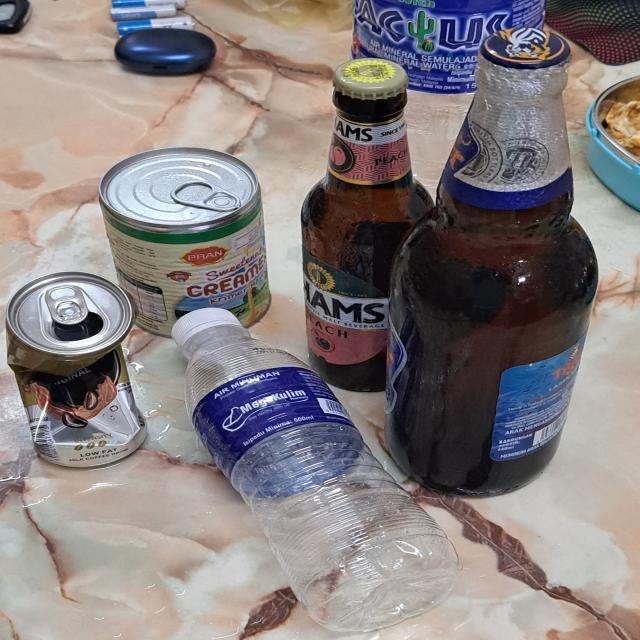can: (98, 146, 272, 339), (10, 269, 148, 469)
glass bottle: (386, 24, 600, 496), (302, 59, 430, 392)
plastic bottle: (190, 328, 466, 636), (352, 0, 548, 196)
plastic bottle cap: (170, 308, 241, 351)
pop tab: (170, 180, 241, 212), (45, 286, 88, 326)
